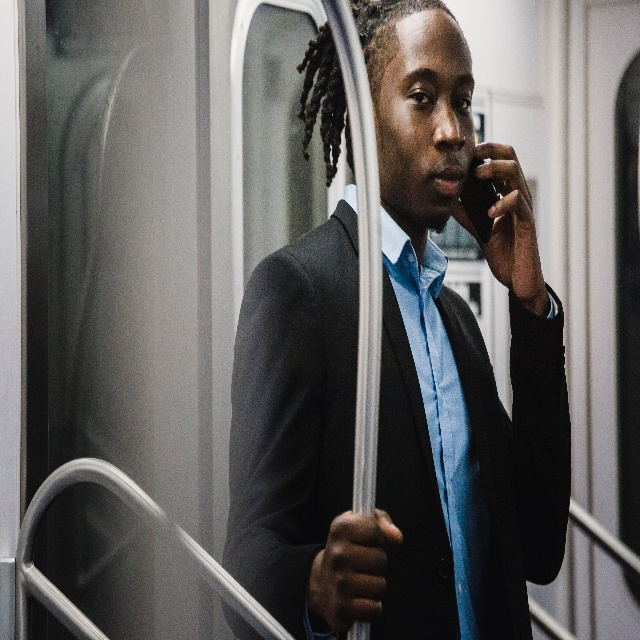Sin_guantes: (450, 140, 547, 306), (321, 506, 404, 624)
